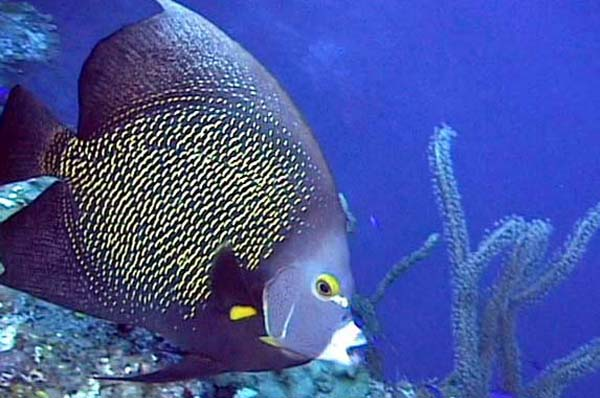Pomacanthus_paru: (1, 2, 385, 381)
